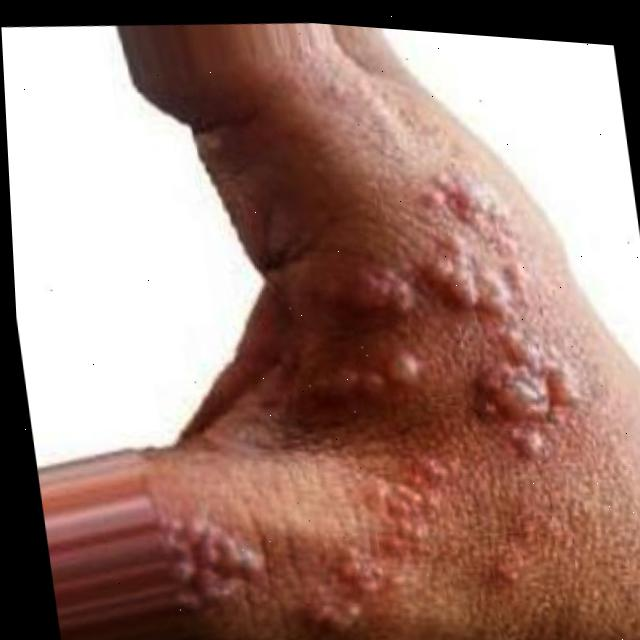Shingles: (110, 153, 616, 640)
